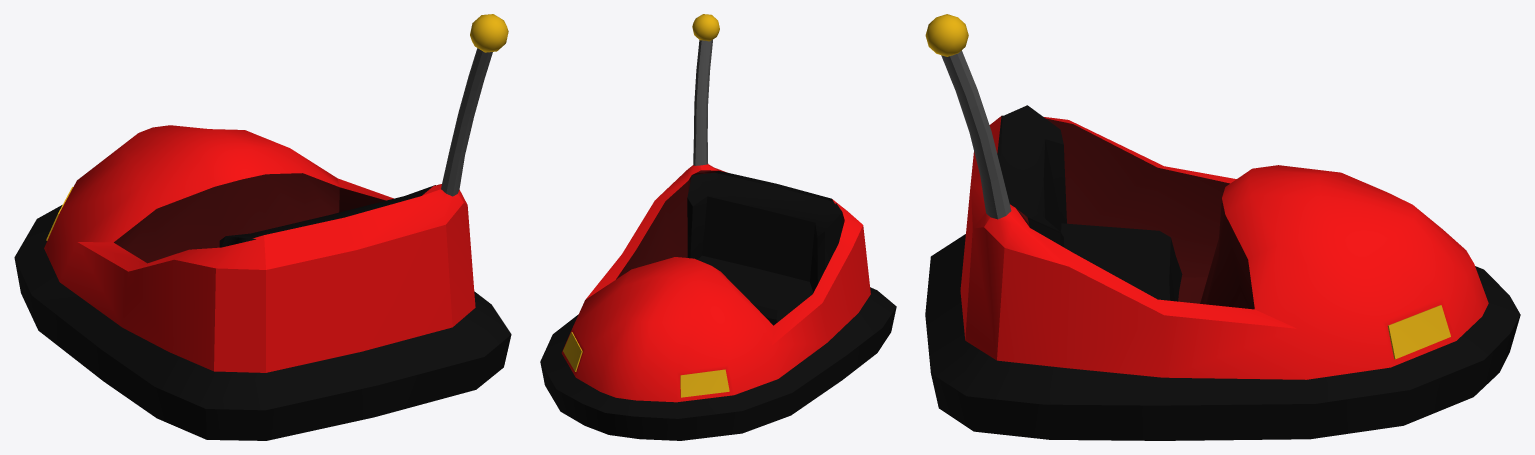
The model's file is Auto_tamponneuse_Rouge_v1.FBX.
3 renders of one model, left to right at view 1: azimuth 30°, elevation 25°; view 2: azimuth 150°, elevation 25°; view 3: azimuth 270°, elevation 25°, orthographic. The views are drawn at different scales.
Parts seen in each view (by area): view 1: BumperCar003, GeoSphere002; view 2: BumperCar003, GeoSphere002; view 3: BumperCar003, GeoSphere002.
Part boxes in pixels (box(x1,y1,x2,y2)): BumperCar003: box(14, 48, 511, 440); GeoSphere002: box(470, 14, 508, 52); BumperCar003: box(540, 39, 896, 440); GeoSphere002: box(692, 14, 719, 41); BumperCar003: box(925, 50, 1520, 440); GeoSphere002: box(925, 14, 968, 56).
Size of the model in its own units: 59.49 by 62.28 by 82.43.
